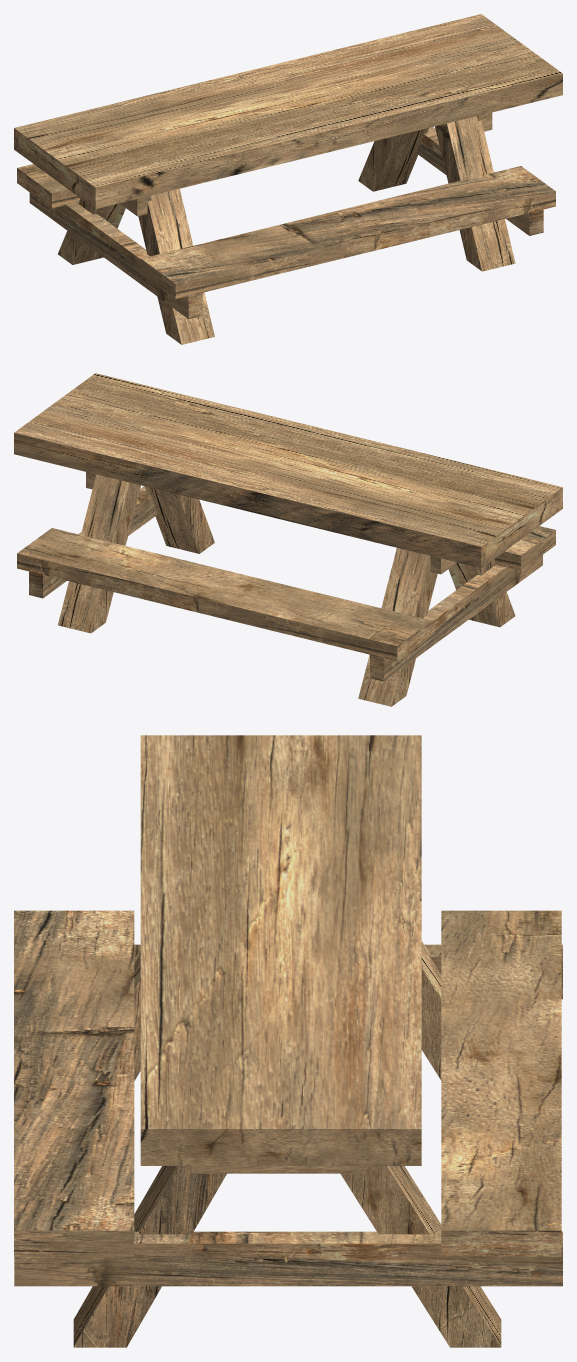
Rendered from MesaPicnic.fbx.
3 renders of one model, top to bottom at view 1: azimuth 30°, elevation 25°; view 2: azimuth 150°, elevation 25°; view 3: azimuth 270°, elevation 25°, orthographic. The views are drawn at different scales.
Parts seen in each view (by area): view 1: Cube, Cube.001, Cube.004; view 2: Cube, Cube.001, Cube.004; view 3: Cube, Cube.001, Cube.004.
Part boxes in pixels (x1=…): Cube: x1=14, y1=14, x2=562, y2=208; Cube.001: x1=17, y1=112, x2=555, y2=319; Cube.004: x1=58, y1=116, x2=515, y2=344; Cube: x1=14, y1=373, x2=562, y2=568; Cube.001: x1=17, y1=472, x2=555, y2=681; Cube.004: x1=58, y1=474, x2=515, y2=706; Cube: x1=140, y1=735, x2=421, y2=1165; Cube.001: x1=14, y1=910, x2=562, y2=1286; Cube.004: x1=73, y1=940, x2=501, y2=1347.
Size of the model in its own units: 701 by 228 by 413.
